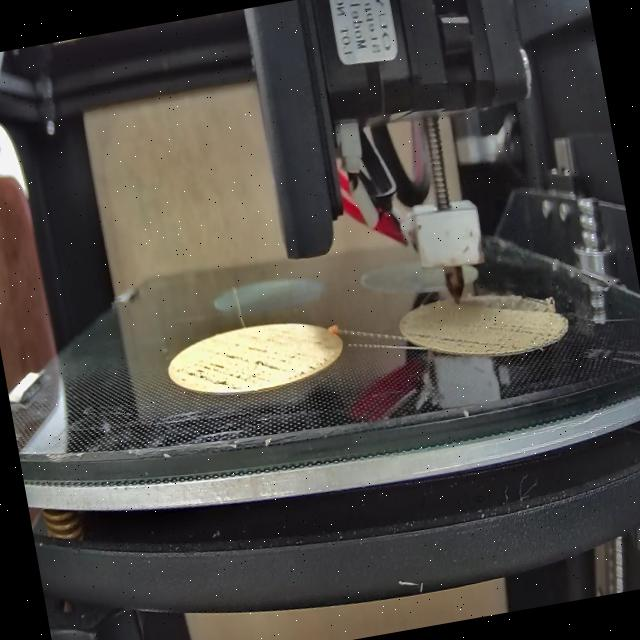under_extrusion: (174, 334, 328, 402), (406, 312, 495, 362), (531, 286, 566, 324)
